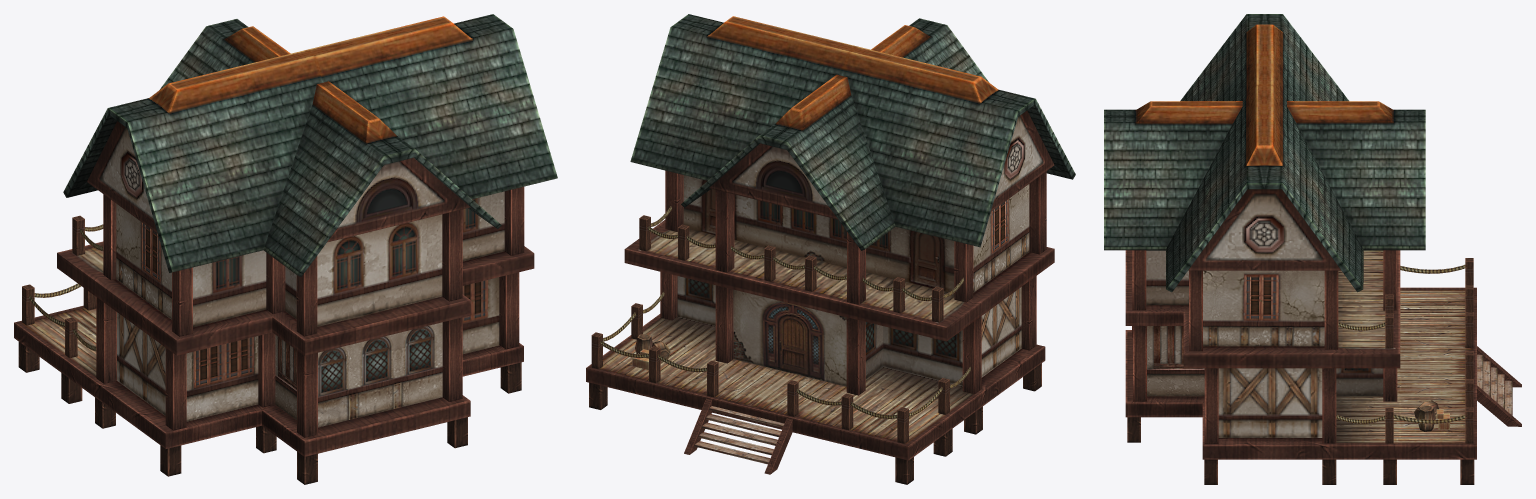
The model's file is MEB_building_06.fbx.
3 views of the same model, side by side, from view 1: azimuth 30°, elevation 25°; view 2: azimuth 150°, elevation 25°; view 3: azimuth 270°, elevation 25° (orthographic). The views are drawn at different scales.
Visible parts, largest first — view 1: MEB_building_06; view 2: MEB_building_06; view 3: MEB_building_06.
Boxes of the visible parts, bbox=[...] form: MEB_building_06: bbox=[14, 14, 557, 484]; MEB_building_06: bbox=[586, 14, 1075, 484]; MEB_building_06: bbox=[1104, 14, 1521, 484].
Bounding box in the file's own units: 1050 × 927 × 1092.
